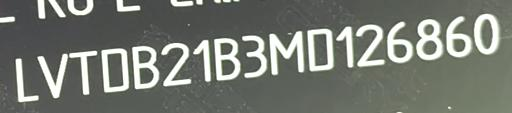letter: (266, 30, 304, 75), (159, 40, 195, 87), (128, 43, 162, 92), (470, 11, 504, 58), (354, 21, 388, 68), (35, 51, 69, 98), (384, 17, 416, 66), (10, 55, 42, 104), (99, 47, 131, 94), (68, 49, 98, 98), (412, 16, 444, 61), (305, 27, 337, 72), (444, 14, 474, 59), (240, 33, 270, 78), (212, 36, 240, 83), (190, 37, 214, 82), (334, 23, 356, 70)
